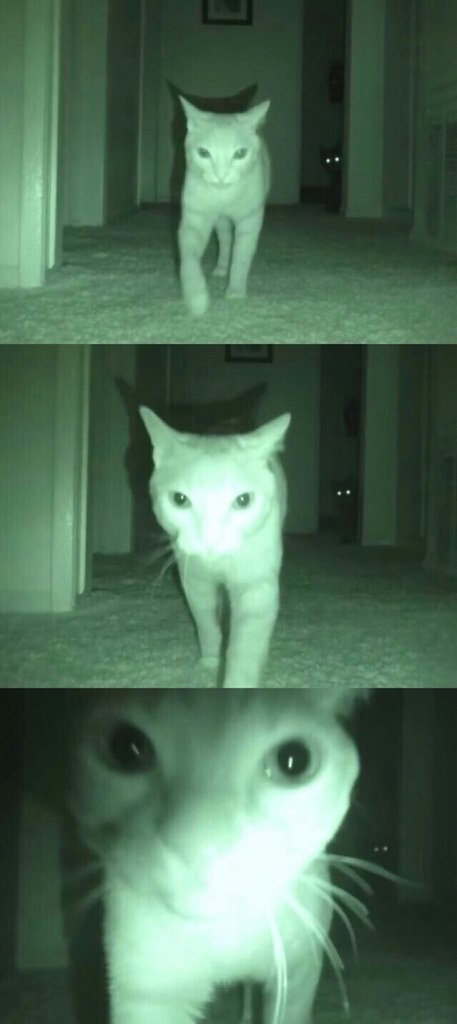house cat: (48, 718, 359, 1021), (134, 387, 291, 675), (169, 81, 294, 311)
